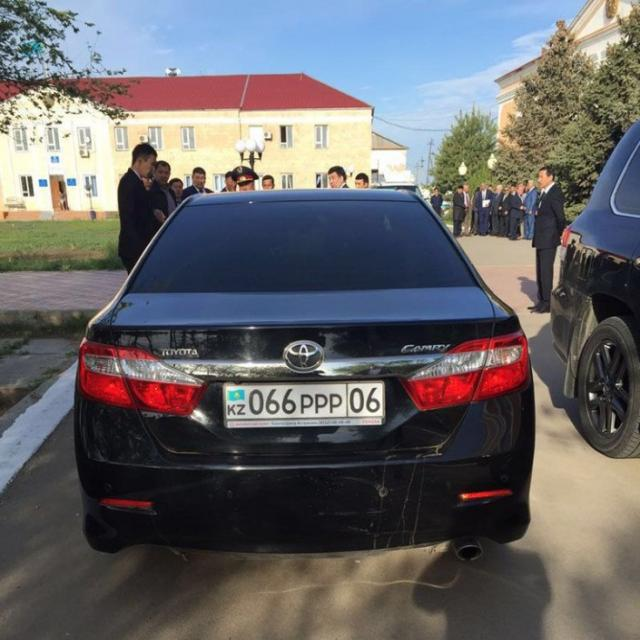car: (72, 186, 536, 560), (549, 118, 639, 459)
license: (220, 378, 386, 428)
